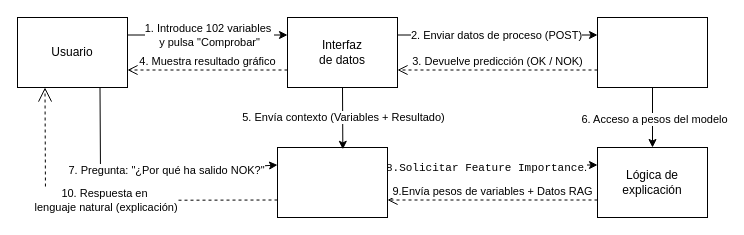
This 744x235 diagram has some shape labels left out. The shapes that lost their labels are listed below. From the top down, each one's centre as x and y in pixels, then its label:
point 652,52: Modelo Clasificación
point 332,182: Chatbot
